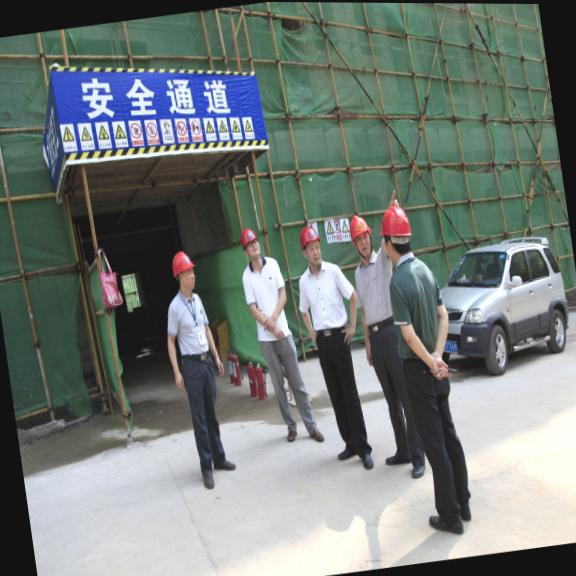no_safety_vest: (388, 259, 454, 377), (167, 288, 218, 373), (240, 259, 290, 345), (301, 262, 348, 339), (353, 254, 395, 326)
